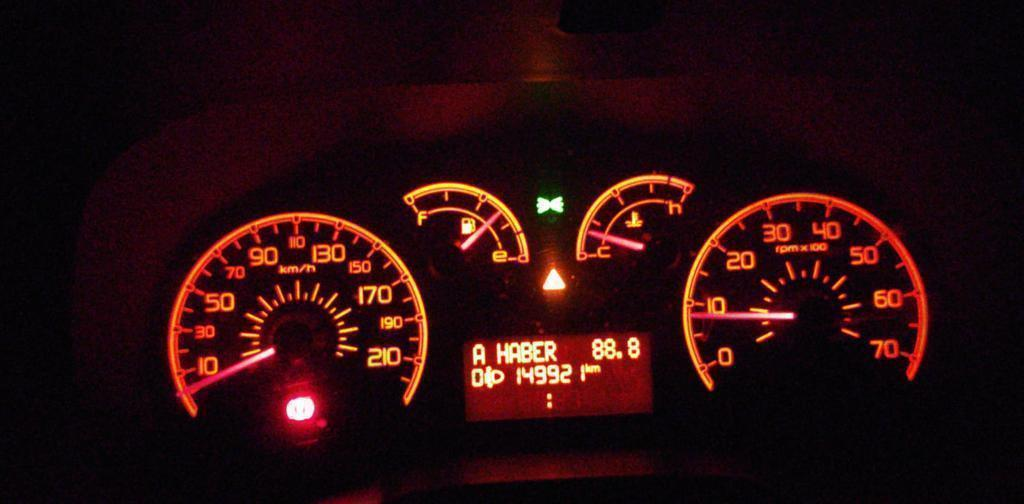,: (616, 350, 624, 359)
0: (471, 367, 483, 387)
1: (579, 363, 585, 383), (516, 366, 521, 386)
2: (560, 363, 572, 384)
4: (522, 366, 534, 385)
8: (627, 336, 641, 359), (603, 337, 616, 360), (592, 338, 603, 361)
9: (547, 364, 559, 384), (534, 364, 546, 384)
X: (471, 342, 486, 365), (545, 339, 557, 362), (532, 340, 544, 363), (508, 341, 520, 364), (496, 342, 508, 365), (521, 341, 532, 362), (544, 391, 552, 411), (590, 364, 601, 372), (585, 363, 590, 373)
odometer: (460, 328, 661, 423)
